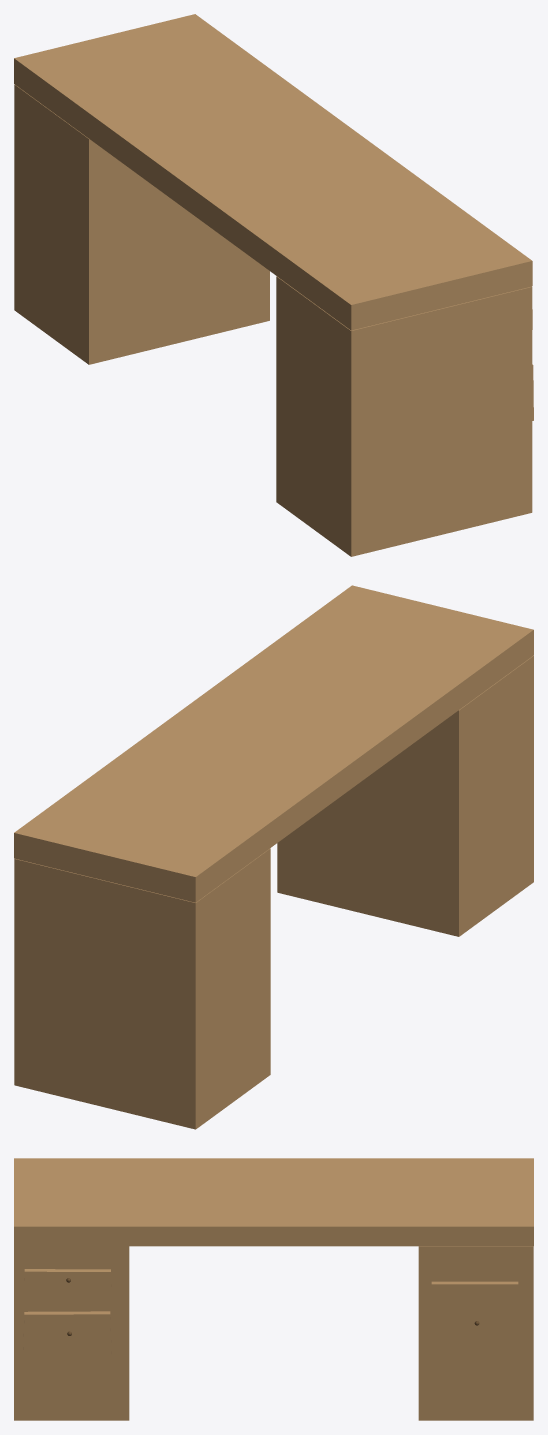
Rendered from Desk V1.1.fbx.
3 renders of one model, top to bottom at view 1: azimuth 30°, elevation 25°; view 2: azimuth 150°, elevation 25°; view 3: azimuth 270°, elevation 25°, orthographic. The views are drawn at different scales.
Parts seen in each view (by area): view 1: Cube, Cube.001, Cube.002; view 2: Cube, Cube.002, Cube.001; view 3: Cube, Cube.002, Cube.001.
Boxes of the visible parts, bbox=[...] form: Cube: bbox=[14, 14, 532, 330]; Cube.001: bbox=[276, 276, 533, 556]; Cube.002: bbox=[14, 84, 269, 364]; Cube: bbox=[14, 585, 533, 902]; Cube.002: bbox=[14, 848, 270, 1129]; Cube.001: bbox=[277, 655, 533, 936]; Cube: bbox=[14, 1158, 533, 1246]; Cube.002: bbox=[418, 1246, 533, 1420]; Cube.001: bbox=[14, 1246, 129, 1420].
Bounding box in the file's own units: 300 × 372 × 903.
